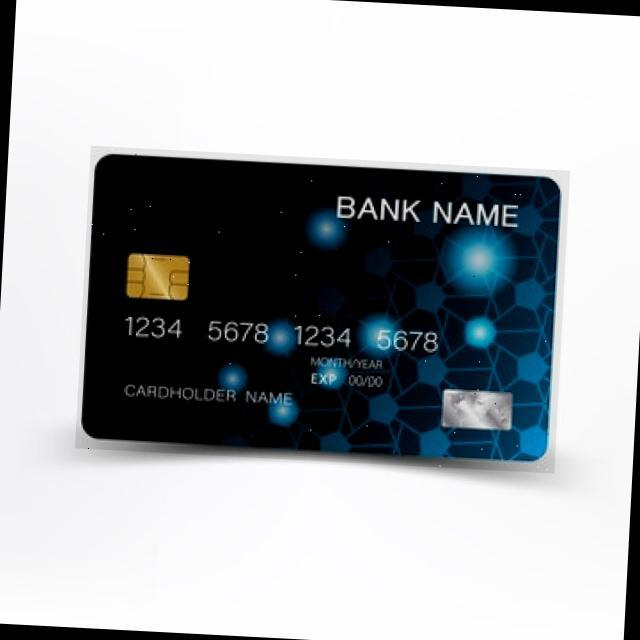payment_card: (78, 144, 568, 472)
